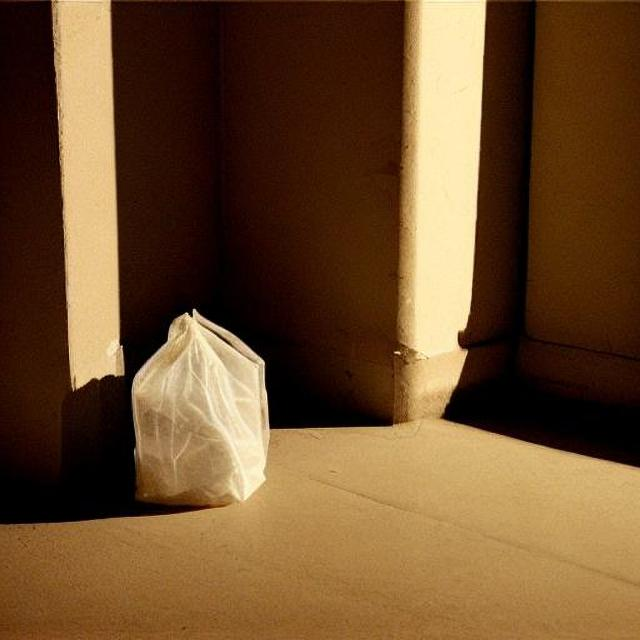floating object: (132, 306, 267, 502)
